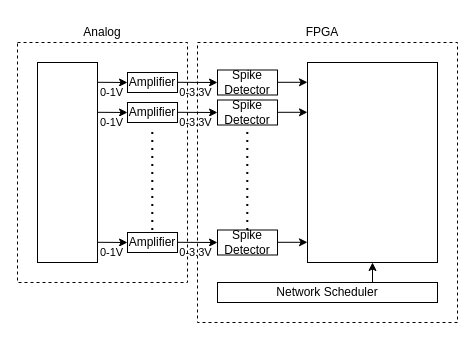
Image size: 475x340. Some labels were removed from this diagram. The centre of each missing label's shape, as x and y in pixels:
Cochlea: (x=67, y=162)
ModNEF Network: (x=372, y=162)
